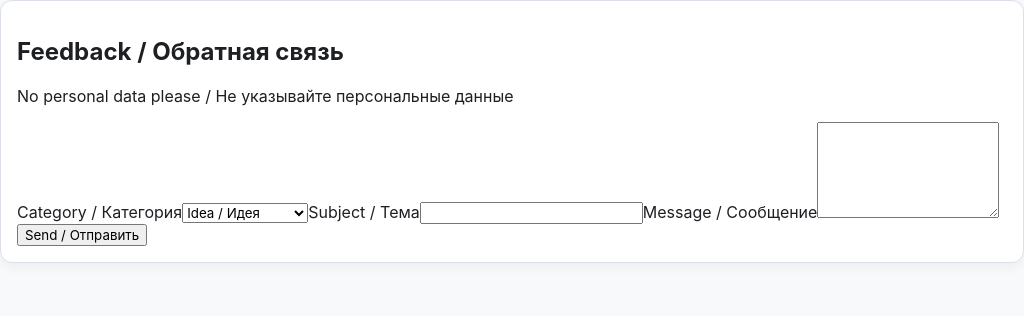
Test case: Feedback page › submits feedback successfully
The image size is (1024, 316).
Type "Hello" into the field labelled "Subject / Тема".
click(531, 213); type("Hello")  # box 420,202 -> 643,224
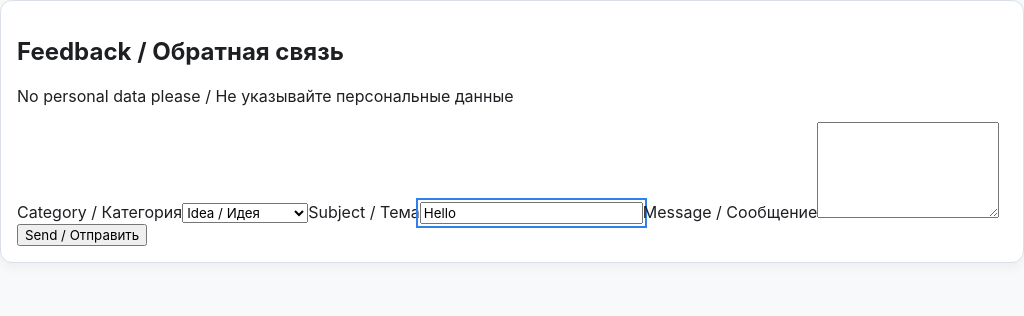
Type "Great app!" into the text box labelled "Message / Сообщение".
click(908, 170); type("Great app!")  # box 817,122 -> 999,218
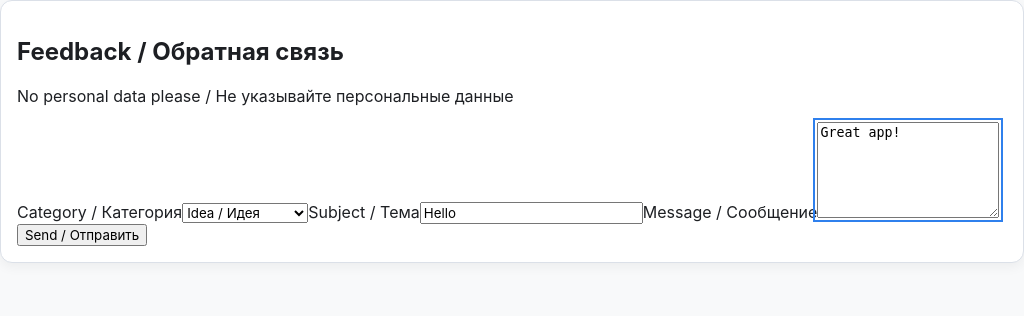
Click the button "Send / Отправить".
click(82, 235)  # box 17,224 -> 147,246
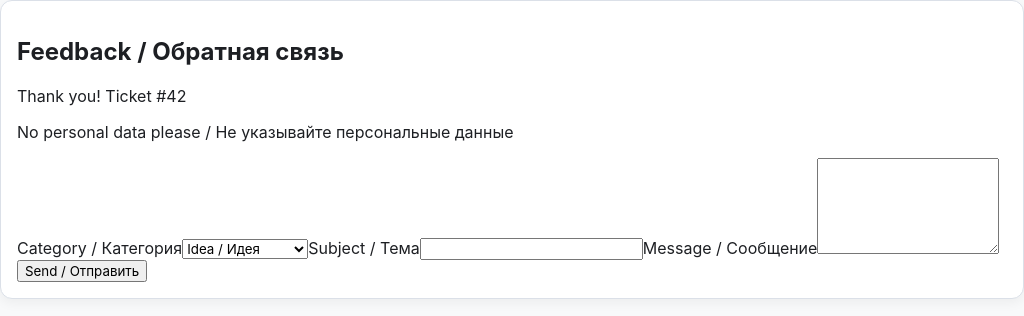
Expected: the message shows "Ticket #42", 17,86 -> 186,106
Expected: the field labelled "Subject / Тема" is empty, 420,238 -> 643,260
Expected: the text box labelled "Message / Сообщение" is empty, 817,158 -> 999,254
